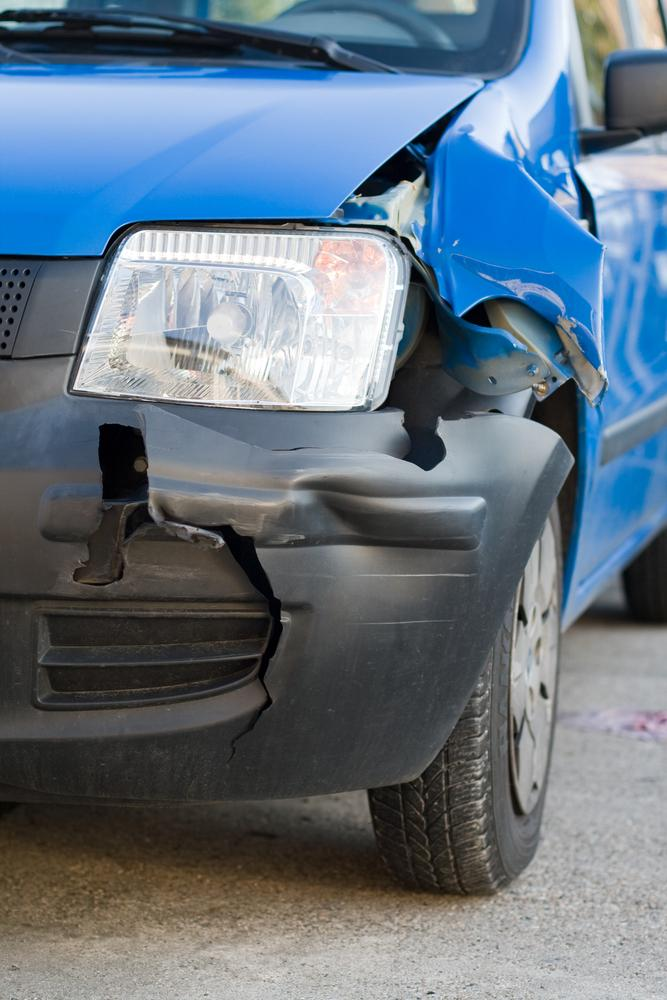crack: (70, 420, 289, 768), (264, 414, 450, 475)
dent: (446, 137, 607, 338), (292, 473, 454, 600)
